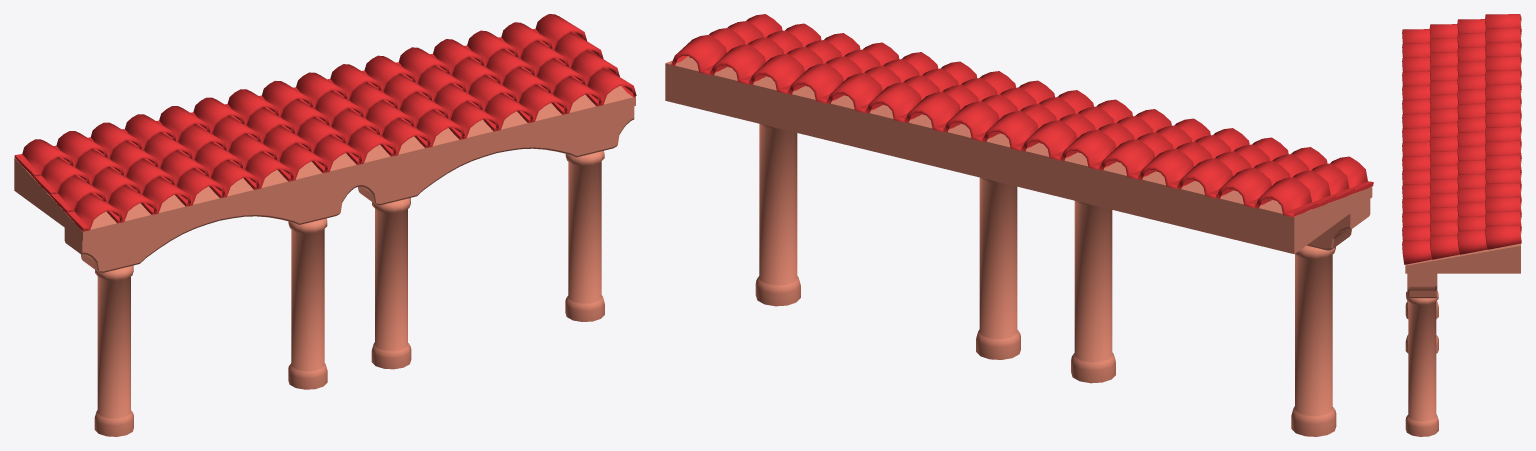
The model's file is Tejado.fbx.
3 views of the same model, side by side, from view 1: azimuth 30°, elevation 25°; view 2: azimuth 150°, elevation 25°; view 3: azimuth 270°, elevation 25° (orthographic). The views are drawn at different scales.
Parts seen in each view (by area): view 1: Tejado.007, tejado_bajo; view 2: tejado_bajo, Tejado.007; view 3: Tejado.007, tejado_bajo.
Boxes of the visible parts, x1,y1,x2,y2 form: Tejado.007: (14,14,636,231); tejado_bajo: (14,86,635,436); tejado_bajo: (665,56,1372,436); Tejado.007: (671,14,1373,217); Tejado.007: (1402,14,1521,264); tejado_bajo: (1405,20,1520,436).
Bounding box in the file's own units: 928 × 404 × 206.
